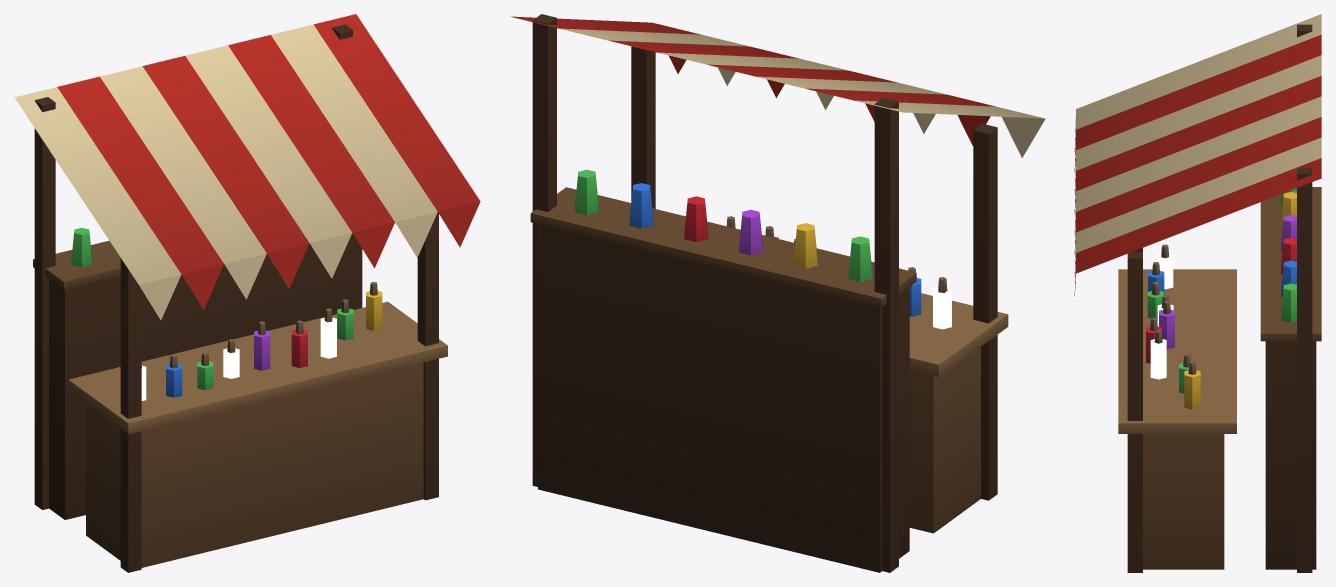
Rendered from b_stall.glb.
3 renders of one model, left to right at view 1: azimuth 30°, elevation 25°; view 2: azimuth 150°, elevation 25°; view 3: azimuth 270°, elevation 25°, orthographic. The views are drawn at different scales.
Visible parts, largest first — view 1: wood, cloth, plain, glow; view 2: wood, cloth, plain, glow; view 3: wood, cloth, plain, glow.
Boxes of the visible parts, left/top/right/bottom form: wood: left=33, top=24, right=447, bottom=572; cloth: left=14, top=14, right=480, bottom=319; plain: left=71, top=227, right=382, bottom=397; glow: left=141, top=317, right=336, bottom=400; wood: left=530, top=14, right=1008, bottom=572; cloth: left=511, top=16, right=1045, bottom=157; plain: left=575, top=169, right=947, bottom=316; glow: left=735, top=227, right=951, bottom=329; wood: left=1118, top=24, right=1321, bottom=572; cloth: left=1074, top=14, right=1321, bottom=301; plain: left=1146, top=188, right=1296, bottom=409; glow: left=1150, top=253, right=1173, bottom=379.
Size of the model in its own units: 2.3 by 2.62 by 1.46.
